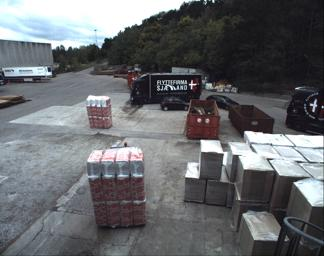rockwool_batts: (86, 149, 144, 227), (85, 94, 112, 126)
